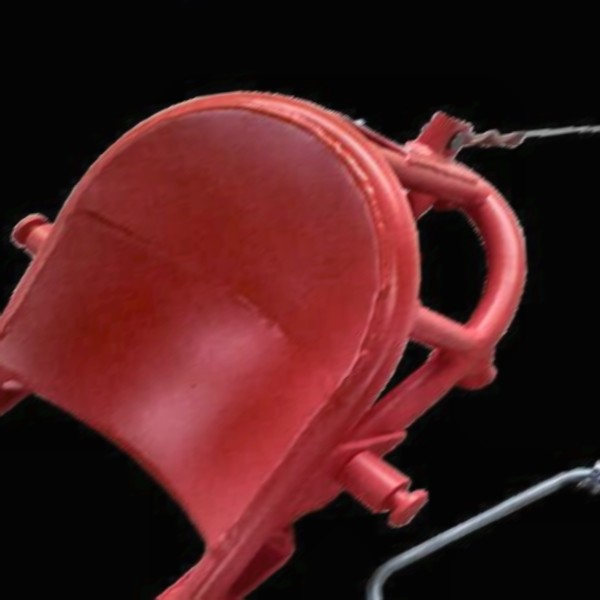chock: (0, 49, 561, 600)
